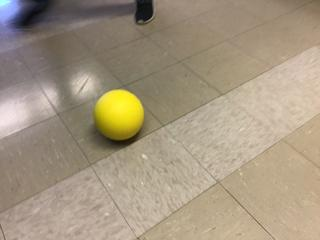power_cell: (91, 87, 148, 141)
